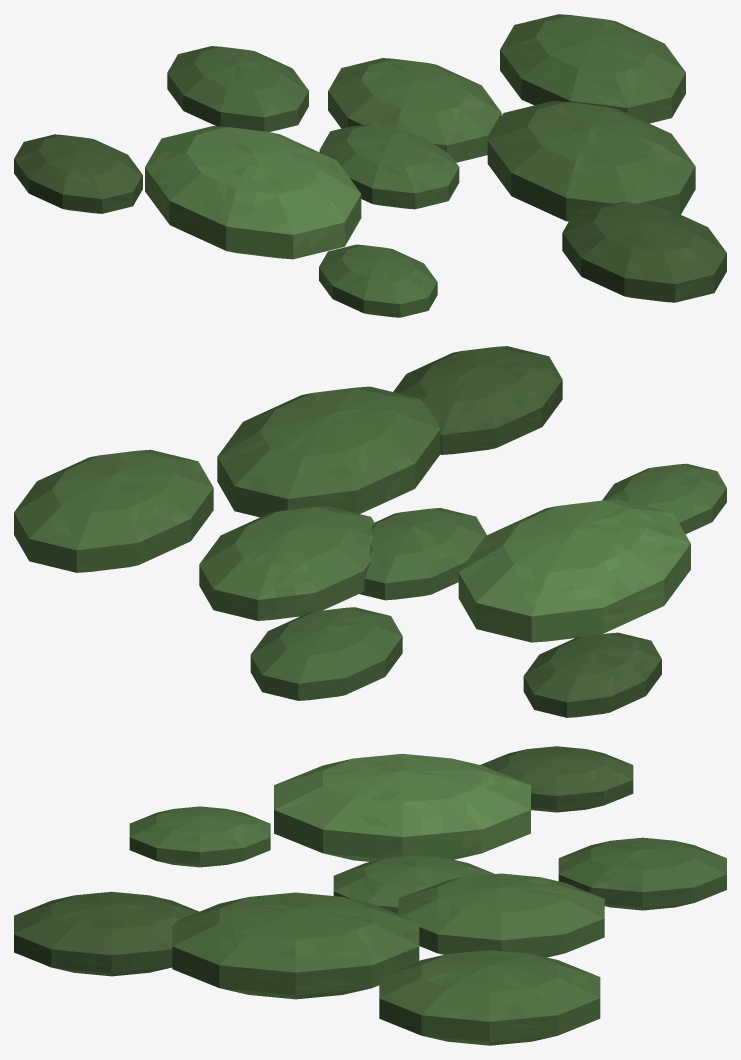
File: seed_cactus.glb
3 views of the same model, one above another, from view 1: azimuth 30°, elevation 25°; view 2: azimuth 150°, elevation 25°; view 3: azimuth 270°, elevation 25° (orthographic). The views are drawn at different scales.
Visible parts, largest first — view 1: block_grain 2, block_grain 3, block_grain 6, block_grain 8, block_grain 1, block_grain 4, block_grain 0, block_grain 7, block_grain 5; view 2: block_grain 2, block_grain 3, block_grain 6, block_grain 1, block_grain 8, block_grain 4, block_grain 7, block_grain 0, block_grain 5; view 3: block_grain 2, block_grain 3, block_grain 6, block_grain 1, block_grain 8, block_grain 4, block_grain 5, block_grain 7, block_grain 0.
Part boxes in pixels (x1,y1,x2,y2): block_grain 2: (145,126,361,259); block_grain 3: (487,101,695,221); block_grain 6: (500,14,685,123); block_grain 8: (562,202,726,302); block_grain 1: (328,58,501,162); block_grain 4: (167,46,308,131); block_grain 0: (319,124,459,209); block_grain 7: (14,134,142,213); block_grain 5: (319,244,437,317); block_grain 2: (458,499,690,642); block_grain 3: (217,386,440,517); block_grain 6: (14,449,213,572); block_grain 1: (199,506,374,620); block_grain 8: (393,346,562,454); block_grain 4: (250,607,402,700); block_grain 7: (523,632,661,717); block_grain 0: (359,508,486,600); block_grain 5: (602,463,726,534); block_grain 2: (274,753,530,861); block_grain 3: (172,892,419,999); block_grain 6: (379,950,600,1045); block_grain 1: (398,873,604,957); block_grain 8: (14,891,198,976); block_grain 4: (558,837,726,910); block_grain 5: (129,806,270,867); block_grain 7: (480,746,633,812); block_grain 0: (333,855,494,913).
Size of the model in its own units: 0.021 by 0.00263 by 0.022.
1 material, 1 textured.
